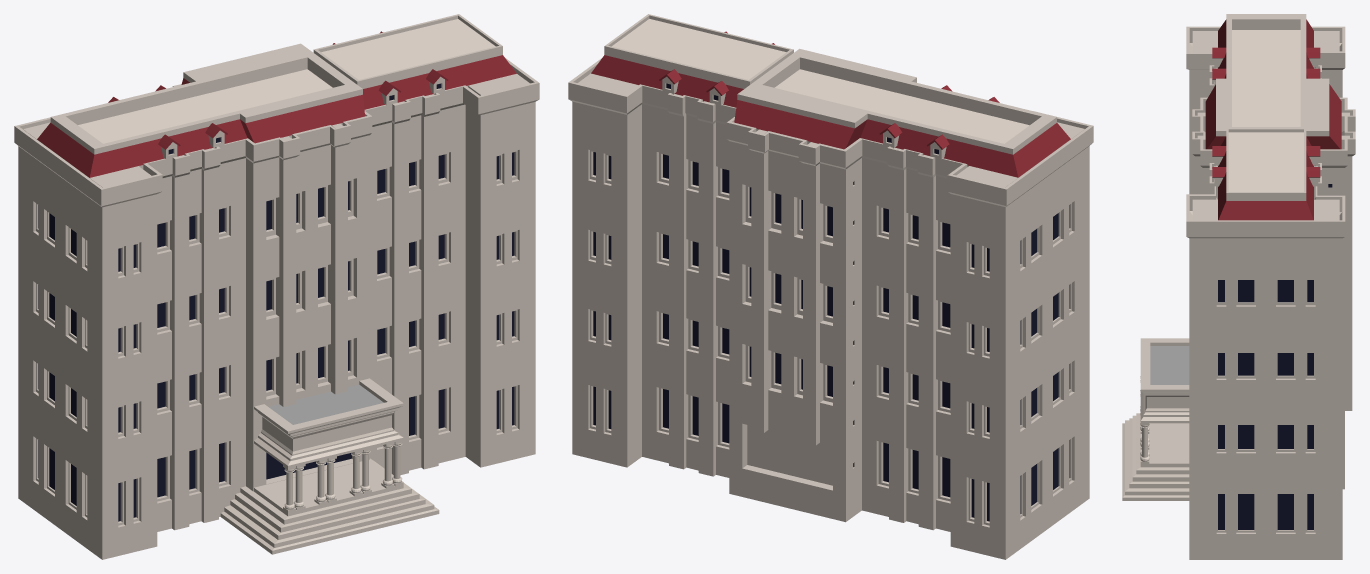
Rendered from PlainStudyBuilding.fbx.
The picture shows the model from 3 angles, left to right: view 1: azimuth 30°, elevation 25°; view 2: azimuth 150°, elevation 25°; view 3: azimuth 270°, elevation 25°; orthographic projection. The views are drawn at different scales.
Visible parts, largest first — view 1: Plane.005, Cube; view 2: Plane.005, Cube; view 3: Plane.005, Cube.
Boxes of the visible parts, x1,y1,x2,y2 form: Plane.005: (14, 14, 539, 559); Cube: (108, 31, 448, 159); Plane.005: (568, 14, 1093, 559); Cube: (659, 31, 999, 159); Plane.005: (1122, 14, 1355, 559); Cube: (1212, 47, 1320, 186).
Size of the model in its own units: 5641 by 4881 by 2850.
